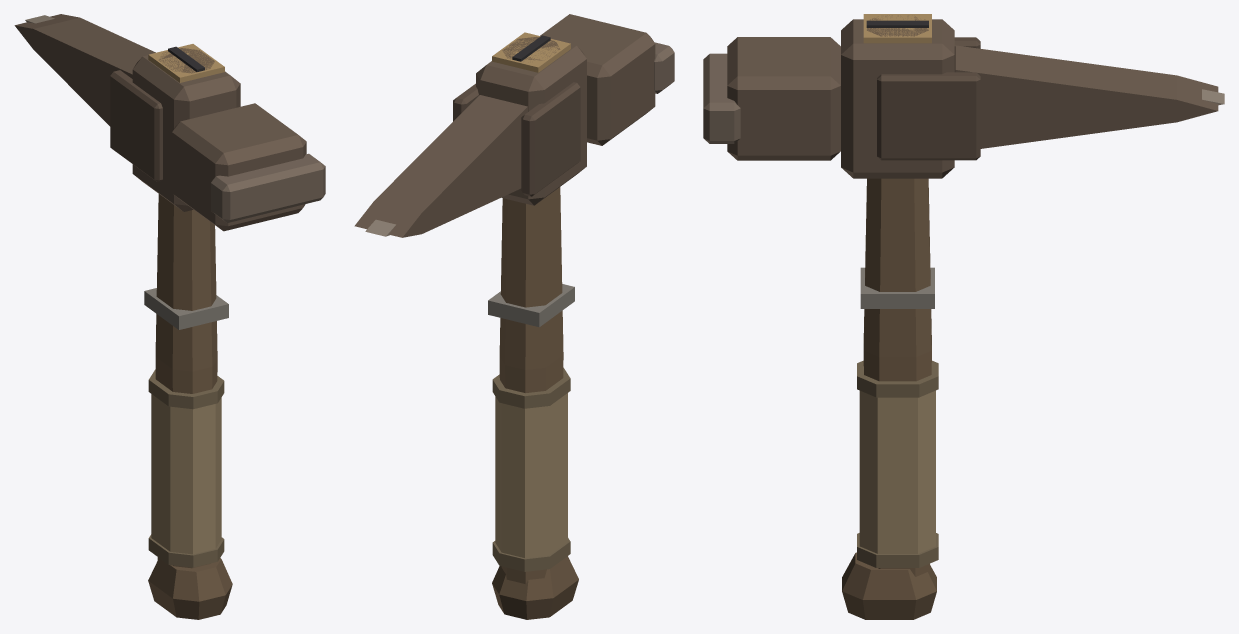
The model's file is RustyPick.glb.
3 renders of one model, left to right at view 1: azimuth 30°, elevation 25°; view 2: azimuth 150°, elevation 25°; view 3: azimuth 270°, elevation 25°, orthographic. The views are drawn at different scales.
Visible parts, largest first — view 1: Head, Handle; view 2: Head, Handle; view 3: Head, Handle.
Part boxes in pixels (box(x1,y1,x2,y2)): Head: box(14, 14, 325, 231); Handle: box(144, 44, 232, 619); Head: box(354, 14, 674, 237); Handle: box(488, 32, 578, 619); Head: box(703, 19, 1224, 178); Handle: box(842, 14, 938, 619).
Bounding box in the file's own units: 0.62 × 3.12 × 2.52.
